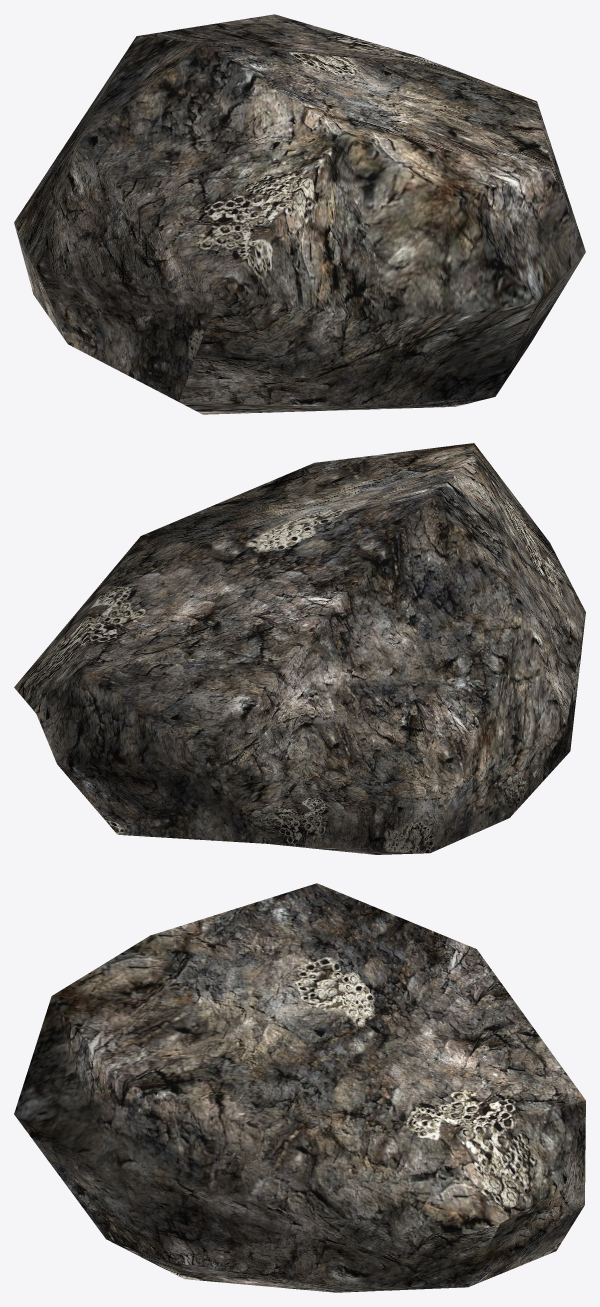
File: pir_m_prp_dvj_rock_g.fbx
The picture shows the model from 3 angles, top to bottom: view 1: azimuth 30°, elevation 25°; view 2: azimuth 150°, elevation 25°; view 3: azimuth 270°, elevation 25°; orthographic projection. The views are drawn at different scales.
Parts seen in each view (by area): view 1: lod_high; view 2: lod_high; view 3: lod_high.
Boxes of the visible parts, bbox=[...] form: lod_high: bbox=[14, 14, 585, 414]; lod_high: bbox=[14, 443, 585, 854]; lod_high: bbox=[14, 883, 585, 1292].
Size of the model in its own units: 1732 by 1191 by 1881.
Materials: 1 (1 with a texture image).
